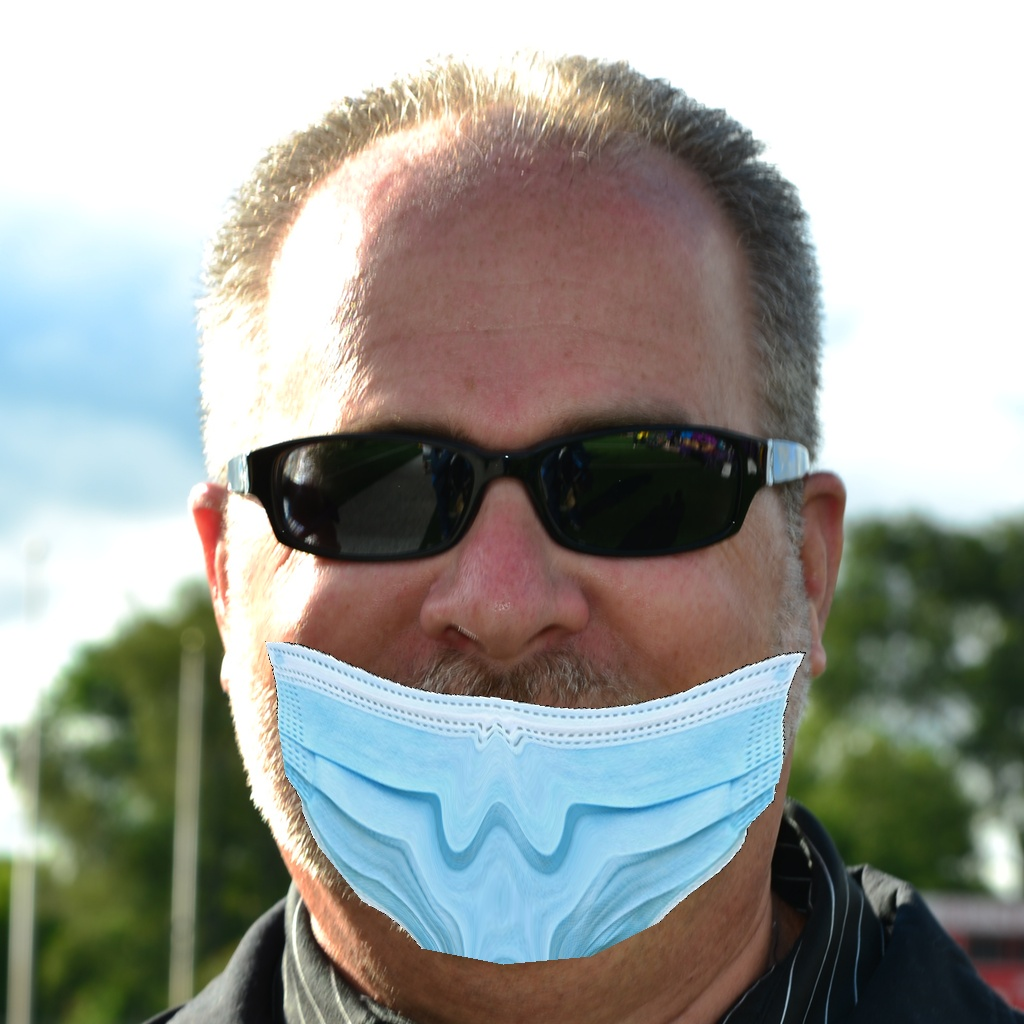Mask_Mouth_Chin: (225, 386, 807, 967)
